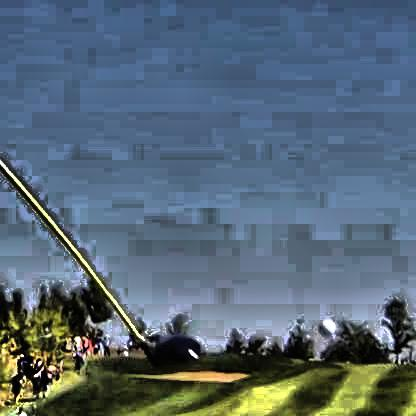golfball: (315, 315, 333, 336)
